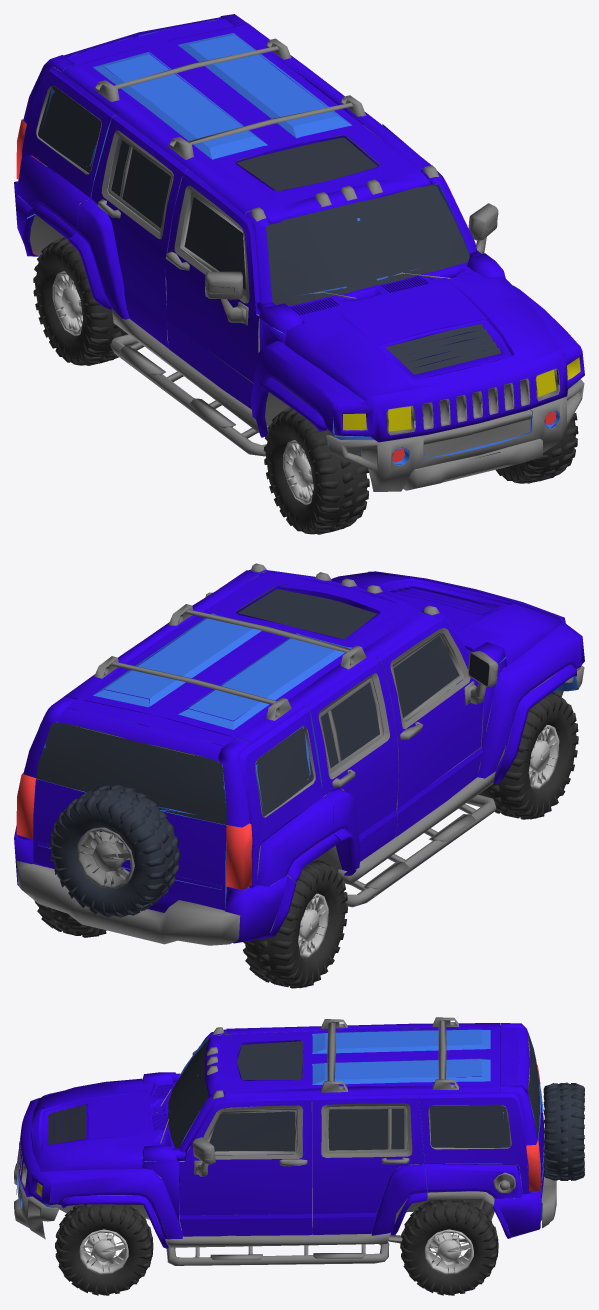
Rendered from Car_Optimization_Hummer.fbx.
The picture shows the model from 3 angles, top to bottom: view 1: azimuth 30°, elevation 25°; view 2: azimuth 150°, elevation 25°; view 3: azimuth 270°, elevation 25°; orthographic projection. The views are drawn at different scales.
Visible parts, largest first — view 1: object__003, Object222, Object217, Object225, Object223, Object226; view 2: object__003, Object217, Object223, Object222, Object225, Object224; view 3: object__003, Object218, Object222, Object224, Object226.
Boxes of the visible parts, x1,y1,x2,y2 form: object__003: [14, 14, 584, 491]; Object222: [284, 272, 559, 400]; Object217: [165, 169, 259, 409]; Object225: [263, 407, 369, 534]; Object223: [33, 237, 127, 365]; Object226: [495, 413, 578, 483]; object__003: [14, 563, 584, 945]; Object217: [376, 616, 483, 837]; Object223: [243, 859, 347, 988]; Object222: [331, 572, 560, 666]; Object225: [478, 692, 578, 819]; Object224: [34, 900, 106, 937]; object__003: [14, 1017, 584, 1265]; Object218: [179, 1096, 312, 1236]; Object222: [31, 1078, 154, 1171]; Object224: [400, 1199, 498, 1295]; Object226: [55, 1204, 153, 1295].
Bounding box in the file's own units: 199 × 179 × 454.
